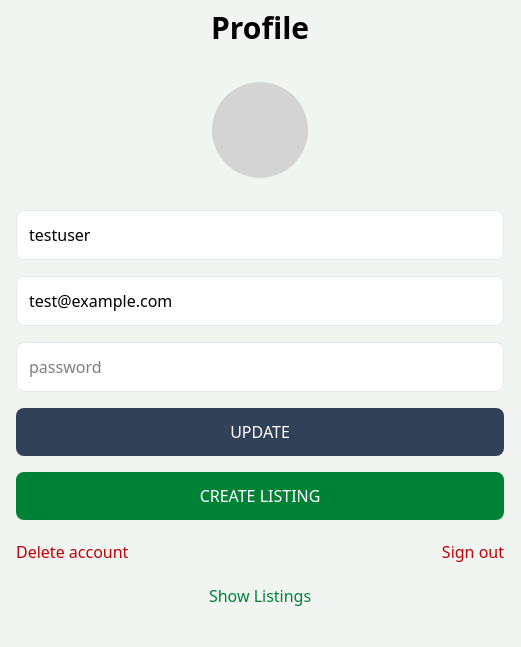
Profile Component › handles user updates successfully and shows success message
The width and height of the screenshot is (521, 647).
# Changing username
Replace the text in the 1st field with placeholder "username" with "updatedUser": (260, 235) 16,210 -> 504,260
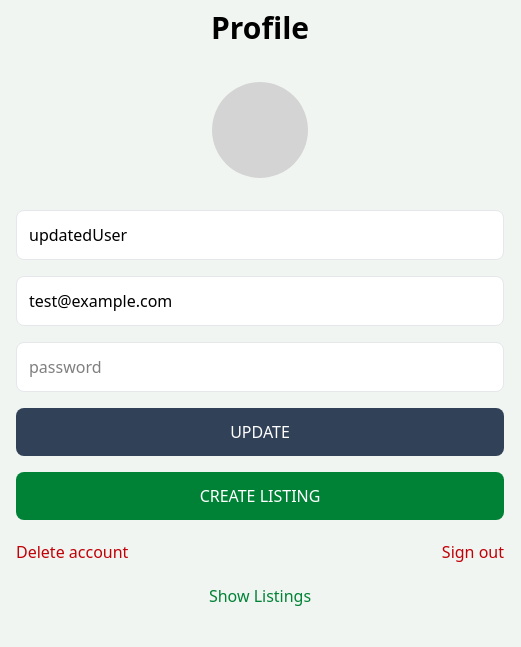
Click the button "Update": (260, 432) 16,408 -> 504,456
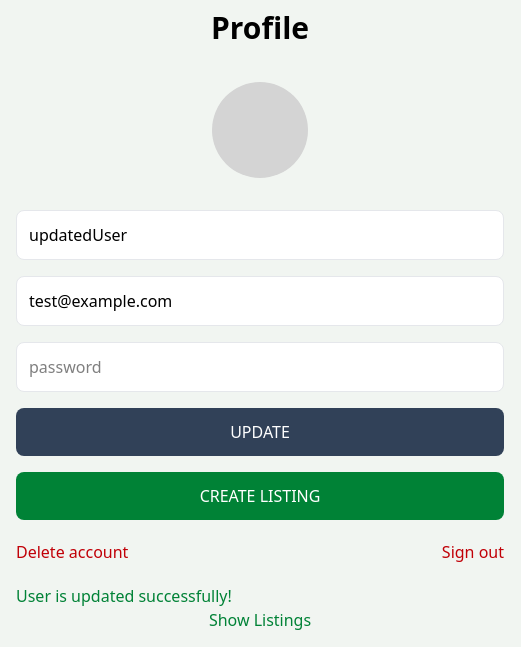
Check: the text "User is updated successfully!" is shown, box 16,585 -> 232,607
